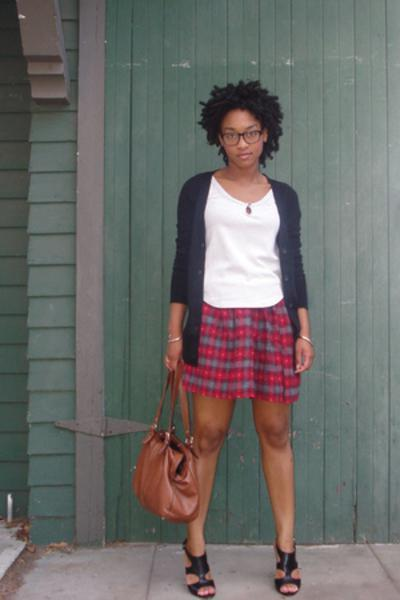bag: (135, 428, 194, 519)
jacket: (170, 171, 307, 366)
shirt: (203, 180, 283, 307)
shoe: (184, 533, 299, 599)
skirt: (180, 300, 301, 409)
